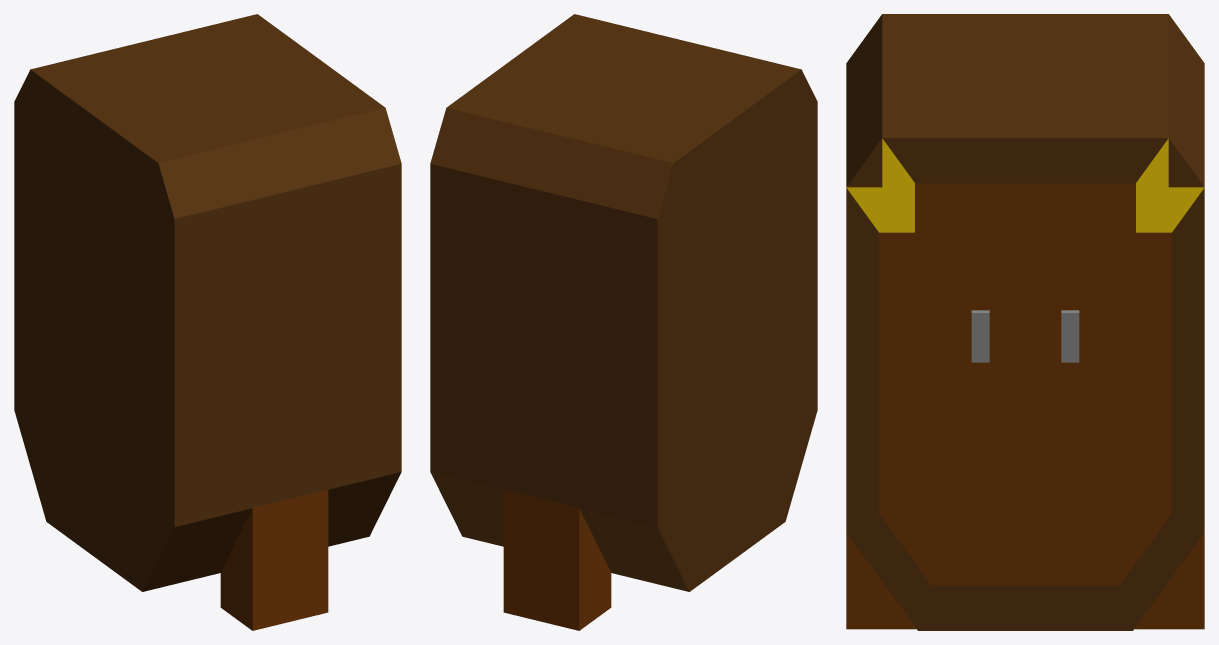
The model's file is Waredrobe.glb.
The picture shows the model from 3 angles, left to right: view 1: azimuth 30°, elevation 25°; view 2: azimuth 150°, elevation 25°; view 3: azimuth 270°, elevation 25°; orthographic projection. The views are drawn at different scales.
Parts seen in each view (by area): view 1: Cube-col; view 2: Cube-col; view 3: Cube-col.
Part boxes in pixels (x1=…): Cube-col: x1=14, y1=14, x2=401, y2=630; Cube-col: x1=430, y1=14, x2=817, y2=630; Cube-col: x1=846, y1=14, x2=1204, y2=630.
Bounding box in the file's own units: 1.1 × 2.16 × 1.32.
